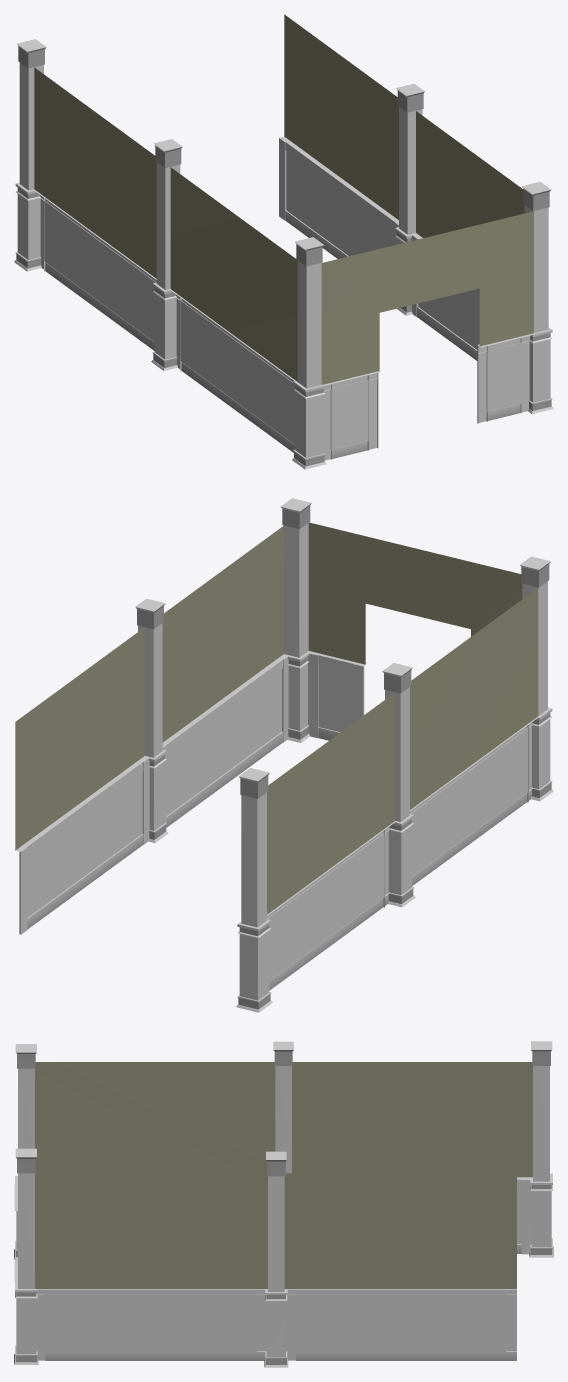
Rendered from SM_H_Building_Tide_WardenLounge_01D_ATLAS.fbx.
3 views of the same model, one above another, from view 1: azimuth 30°, elevation 25°; view 2: azimuth 150°, elevation 25°; view 3: azimuth 270°, elevation 25° (orthographic). The views are drawn at different scales.
Parts seen in each view (by area): view 1: SM_H_Building_Tide_WardenLounge_01D_ATLAS; view 2: SM_H_Building_Tide_WardenLounge_01D_ATLAS; view 3: SM_H_Building_Tide_WardenLounge_01D_ATLAS.
Boxes of the visible parts, <box> form: SM_H_Building_Tide_WardenLounge_01D_ATLAS: <box>14,14,553,469</box>; SM_H_Building_Tide_WardenLounge_01D_ATLAS: <box>14,498,553,1012</box>; SM_H_Building_Tide_WardenLounge_01D_ATLAS: <box>14,1041,553,1367</box>.
Size of the model in its own units: 568 by 1078 by 456.
